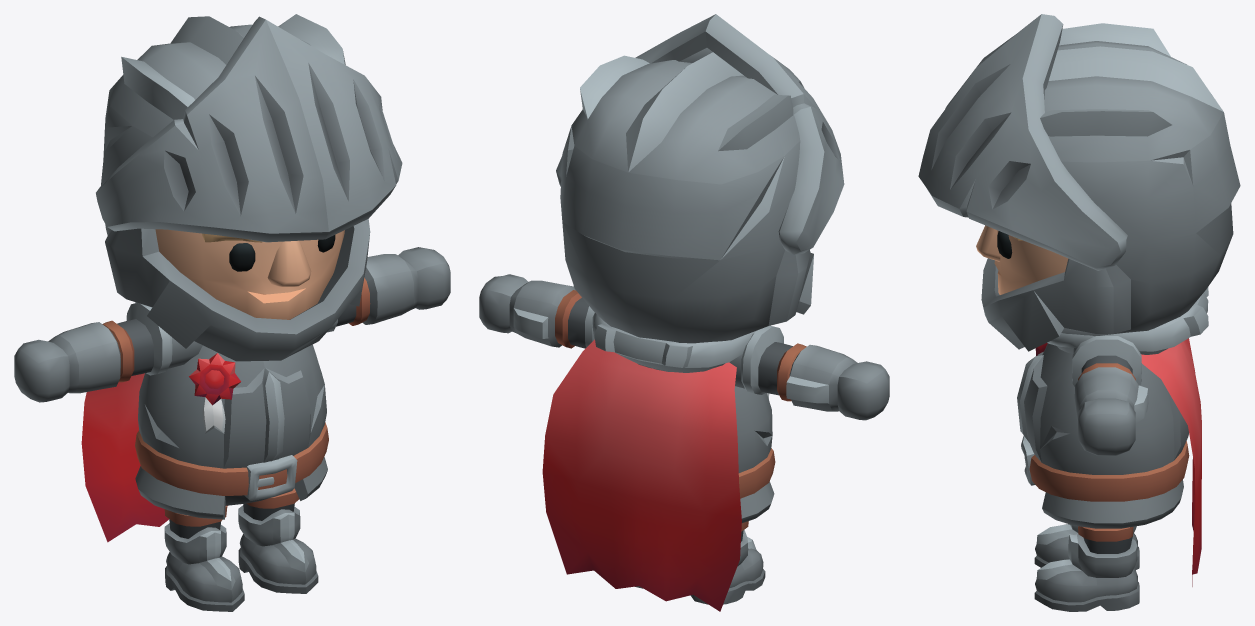
The model's file is Knight.glb.
3 renders of one model, left to right at view 1: azimuth 30°, elevation 25°; view 2: azimuth 150°, elevation 25°; view 3: azimuth 270°, elevation 25°, orthographic. The views are drawn at different scales.
Parts seen in each view (by area): view 1: Knight_vat; view 2: Knight_vat; view 3: Knight_vat.
Boxes of the visible parts, box(x1,y1,x2,y2) form: Knight_vat: box(14, 14, 450, 611); Knight_vat: box(479, 14, 889, 611); Knight_vat: box(918, 14, 1240, 611).
Bounding box in the file's own units: 1.94 × 2.54 × 1.31.
1 material, 1 textured.
